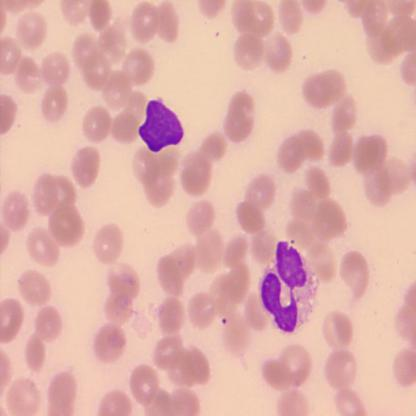Segmented neutrophil: (259, 234, 320, 333)
